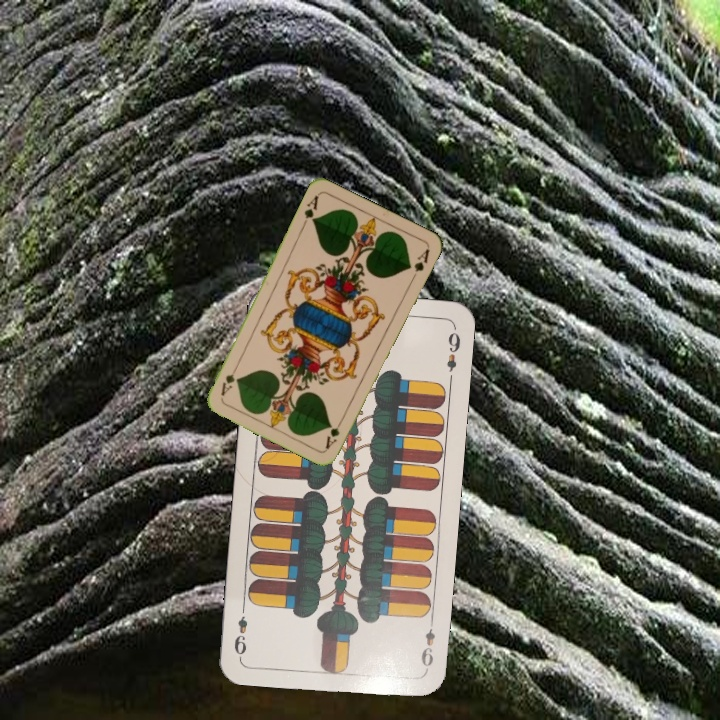E9: (417, 615, 437, 674)
GA: (321, 414, 346, 452), (298, 191, 321, 230)
